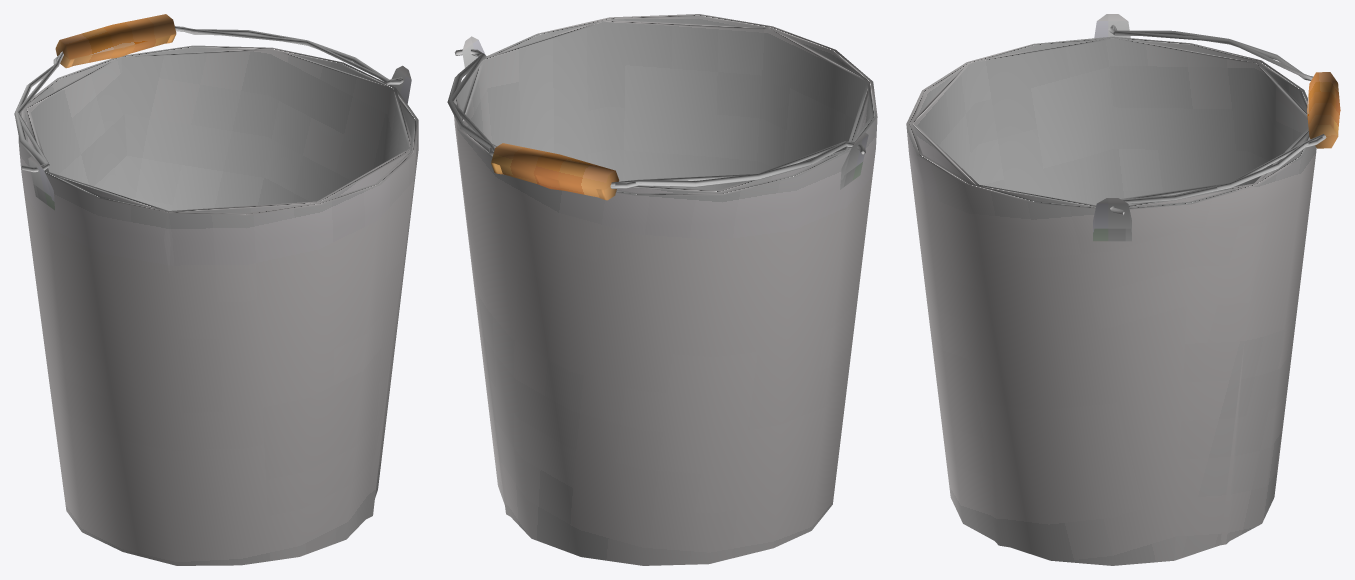
Rendered from objects_un_t01bucket01_white.gltf.
3 views of the same model, side by side, from view 1: azimuth 30°, elevation 25°; view 2: azimuth 150°, elevation 25°; view 3: azimuth 270°, elevation 25° (orthographic). The views are drawn at different scales.
Parts seen in each view (by area): view 1: um_objects_un_t01bucket01_white_model_lod0Shape:objects_un_t, um_objects_un_t01bucket01_white_model_lod1Shape:objects_un_t (×2), um_objects_un_t01bucket01_white_model_lod2Shape:objects_un_t; view 2: um_objects_un_t01bucket01_white_model_lod0Shape:objects_un_t, um_objects_un_t01bucket01_white_model_lod1Shape:objects_un_t (×2), um_objects_un_t01bucket01_white_model_lod2Shape:objects_un_t; view 3: um_objects_un_t01bucket01_white_model_lod0Shape:objects_un_t (×2), um_objects_un_t01bucket01_white_model_lod1Shape:objects_un_t (×2), um_objects_un_t01bucket01_white_model_lod2Shape:objects_un_t.
Boxes of the visible parts, x1,y1,x2,y2 form: um_objects_un_t01bucket01_white_model_lod0Shape:objects_un_t: (14, 26, 418, 565); um_objects_un_t01bucket01_white_model_lod1Shape:objects_un_t (×2): (14, 26, 411, 519); um_objects_un_t01bucket01_white_model_lod2Shape:objects_un_t: (17, 14, 388, 165); um_objects_un_t01bucket01_white_model_lod0Shape:objects_un_t: (447, 14, 877, 565); um_objects_un_t01bucket01_white_model_lod1Shape:objects_un_t (×2): (447, 20, 868, 516); um_objects_un_t01bucket01_white_model_lod2Shape:objects_un_t: (450, 52, 859, 197); um_objects_un_t01bucket01_white_model_lod0Shape:objects_un_t (×2): (906, 14, 1340, 565); um_objects_un_t01bucket01_white_model_lod1Shape:objects_un_t (×2): (912, 20, 1337, 547); um_objects_un_t01bucket01_white_model_lod2Shape:objects_un_t: (1112, 30, 1340, 199).
Size of the model in its own units: 0.5061 by 0.4922 by 0.4829.
2 materials, 2 textured.
